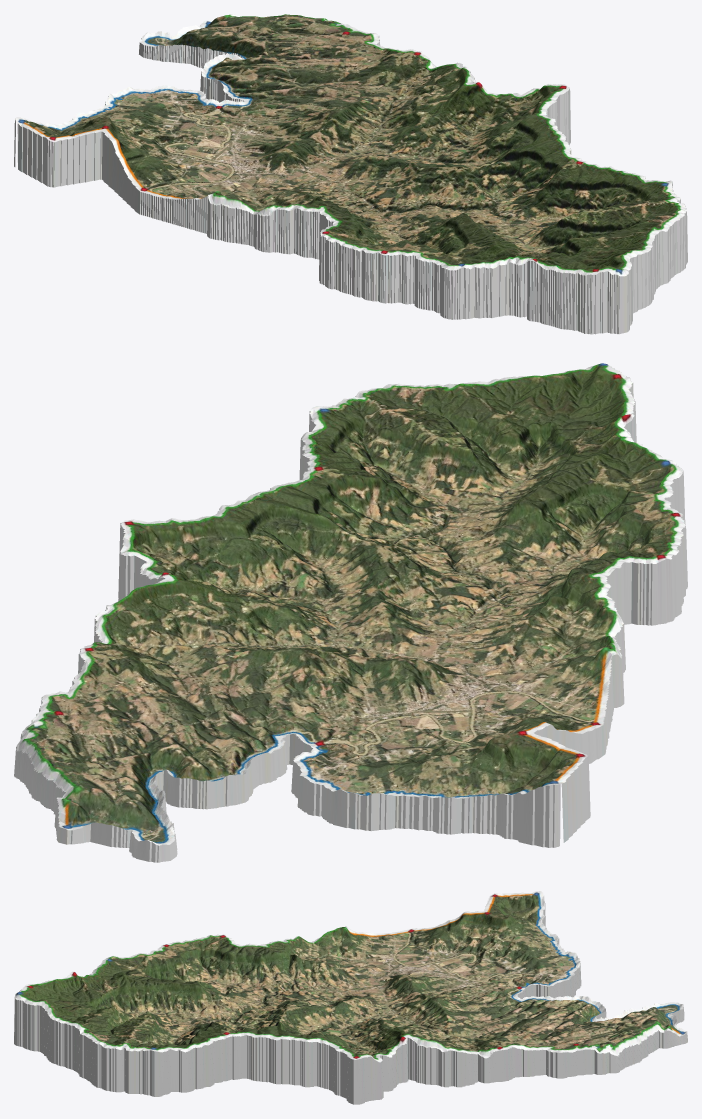
3 views of the same model, one above another, from view 1: azimuth 30°, elevation 25°; view 2: azimuth 150°, elevation 25°; view 3: azimuth 270°, elevation 25° (orthographic). The views are drawn at different scales.
Bounding box in the file's own units: 1 × 0.1317 × 1.62.
1 material, 1 textured.
